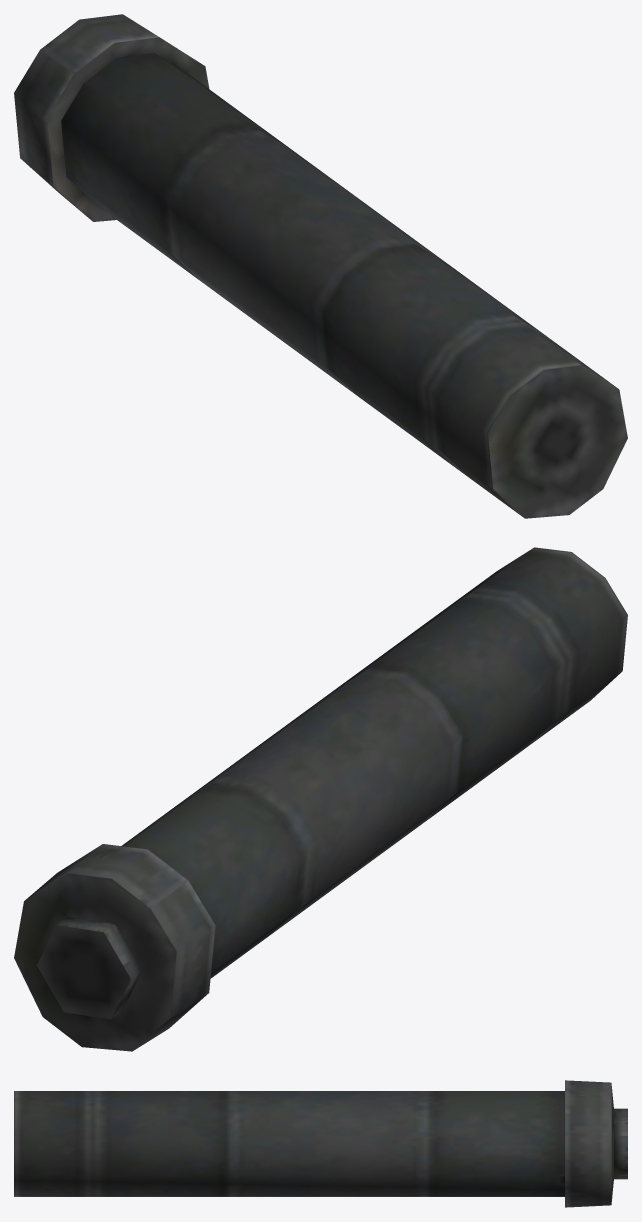
File: SMG_cfq_qt_01_Stock_Main_(000608).glb
3 views of the same model, one above another, from view 1: azimuth 30°, elevation 25°; view 2: azimuth 150°, elevation 25°; view 3: azimuth 270°, elevation 25° (orthographic). The views are drawn at different scales.
Parts seen in each view (by area): view 1: cfq_qt_01; view 2: cfq_qt_01; view 3: cfq_qt_01.
Part boxes in pixels (left/top/right/bottom): cfq_qt_01: left=14, top=14, right=627, bottom=518; cfq_qt_01: left=14, top=547, right=627, bottom=1051; cfq_qt_01: left=14, top=1080, right=627, bottom=1207.
Bounding box in the file's own units: 0.074 × 0.0763 × 0.3612.
Materials: 1 (1 with a texture image).
